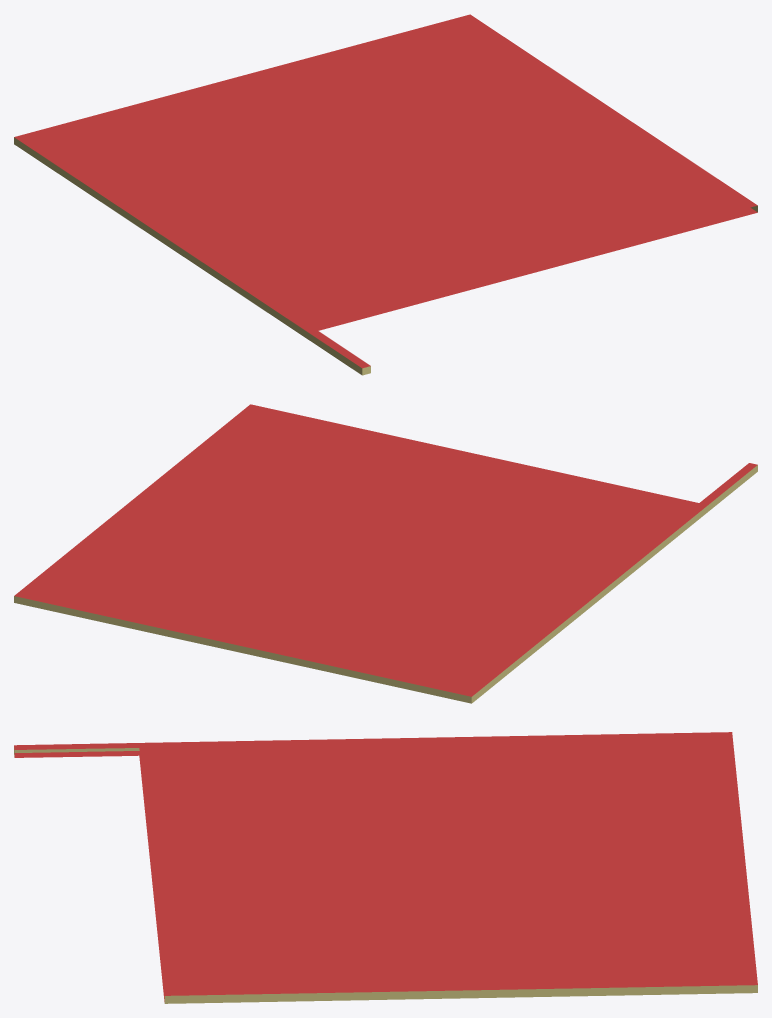
The picture shows the model from 3 angles, top to bottom: view 1: azimuth 30°, elevation 25°; view 2: azimuth 150°, elevation 25°; view 3: azimuth 270°, elevation 25°; orthographic projection. The views are drawn at different scales.
Bounding box in the file's own units: 7.12 × 8.48 × 0.1.
